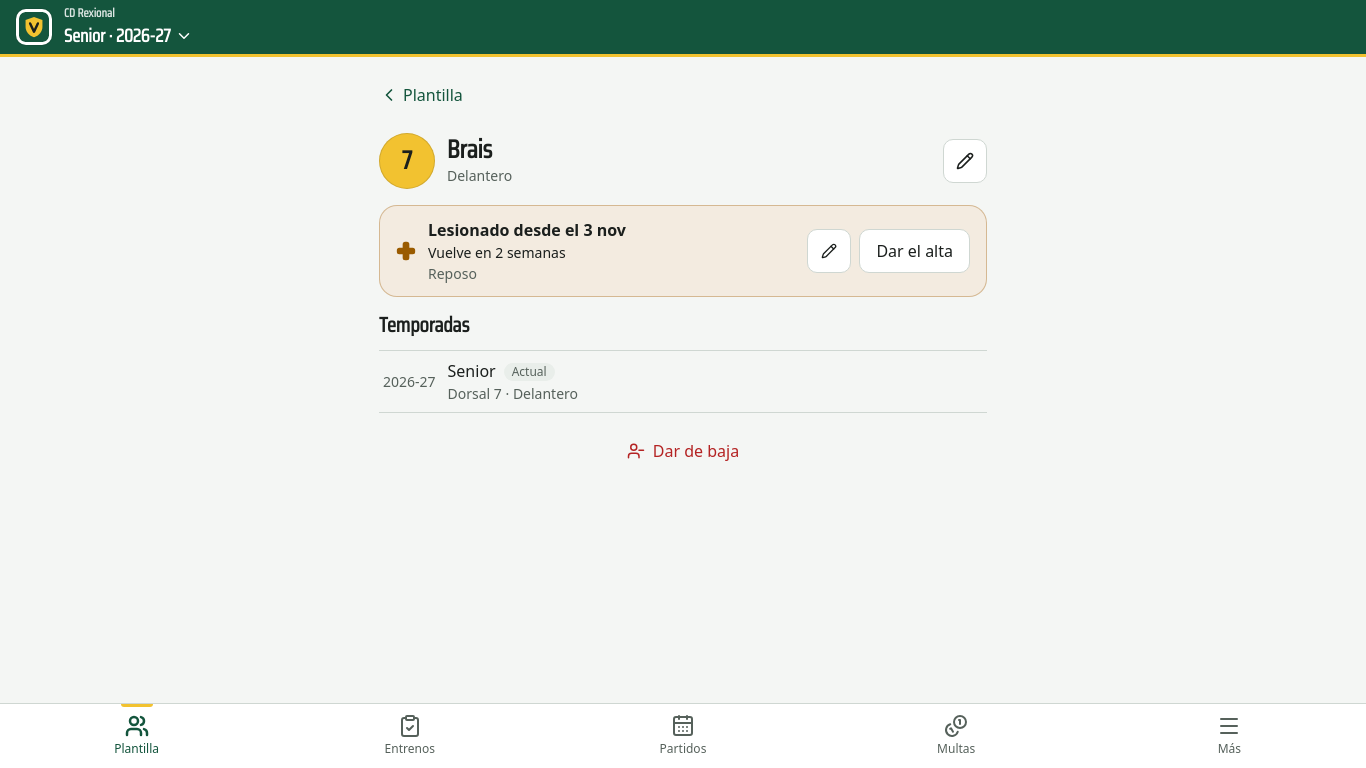
Test: lesiones en la ficha del jugador › una registrada por error se borra tras confirmar
Click the button named "Corregir la lesión" at (829, 251), box [807,229,851,273]
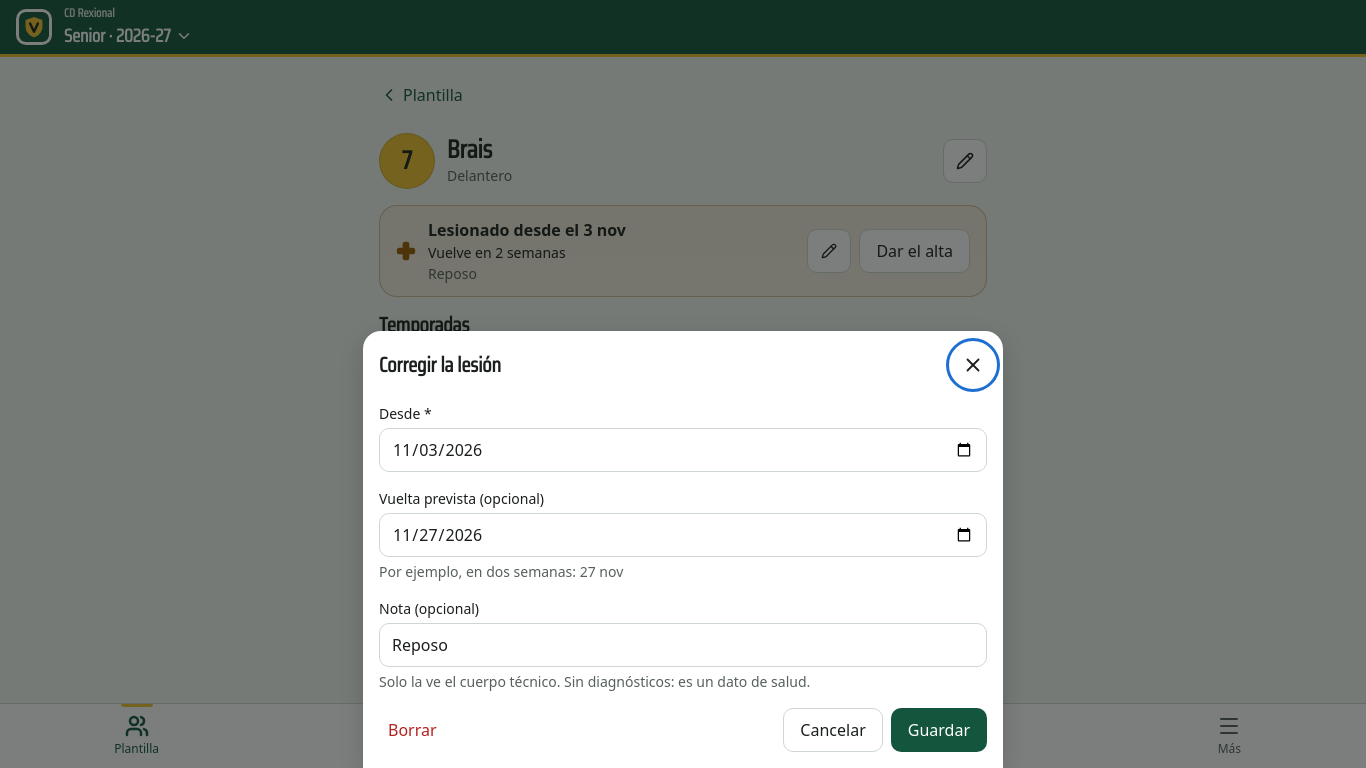
Click the button "Borrar" at (412, 730), box [379,708,446,752]
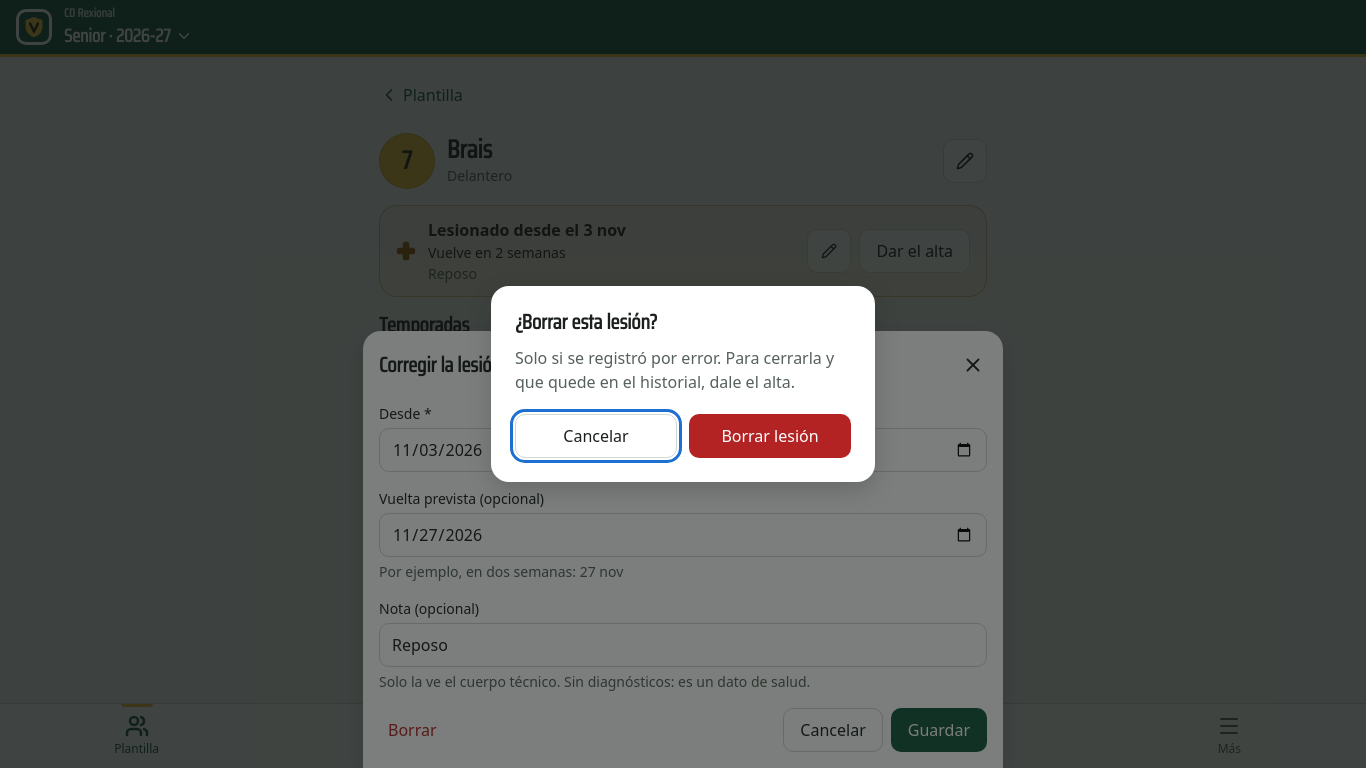
Click the button "Borrar lesión" at (770, 436), box [689,414,851,458]
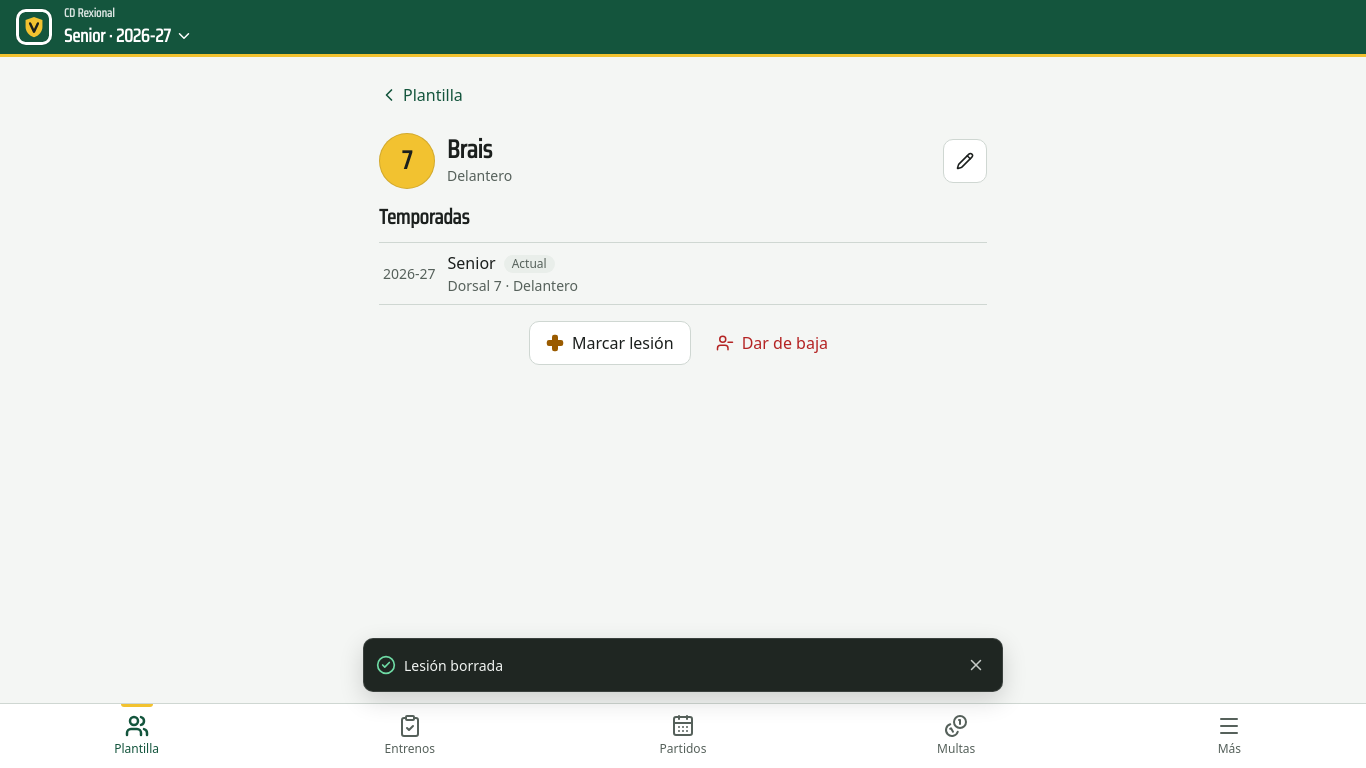
expect the text "Lesión borrada" is shown: met, box [404,656,503,674]
